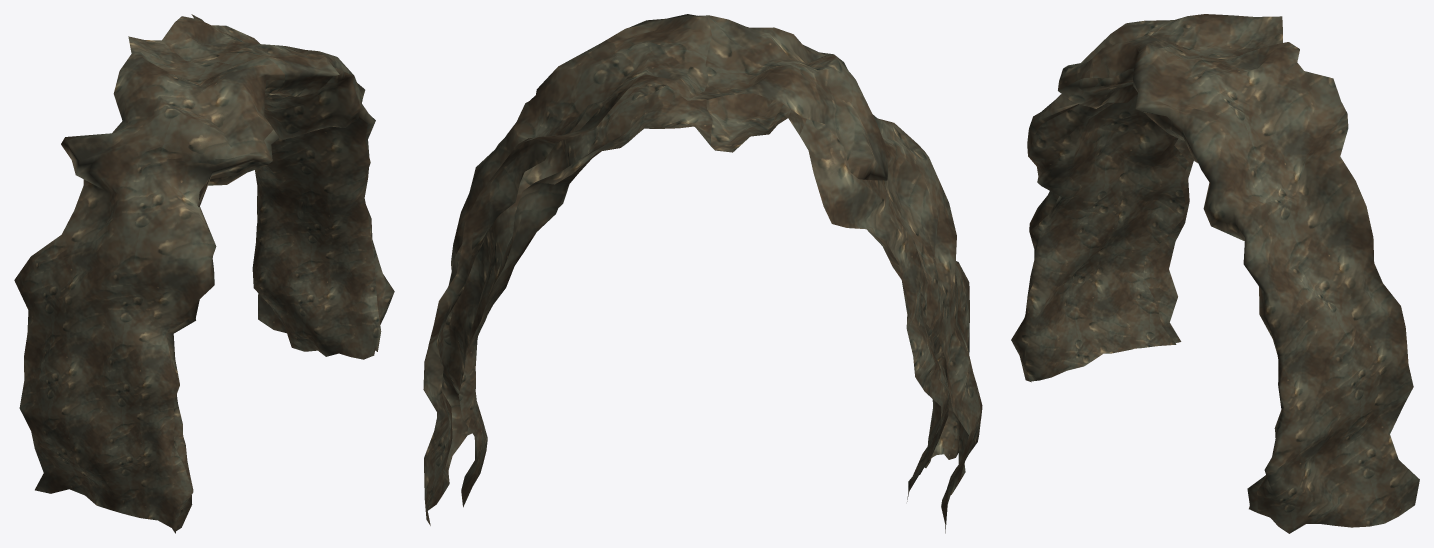
File: cave.FBX
3 renders of one model, left to right at view 1: azimuth 30°, elevation 25°; view 2: azimuth 150°, elevation 25°; view 3: azimuth 270°, elevation 25°, orthographic. The views are drawn at different scales.
Visible parts, largest first — view 1: Tube001; view 2: Tube001; view 3: Tube001.
Boxes of the visible parts, x1,y1,x2,y2 form: Tube001: (14, 14, 394, 533); Tube001: (423, 14, 982, 533); Tube001: (1011, 14, 1419, 533).
Bounding box in the file's own units: 104 × 93.49 × 84.67.
